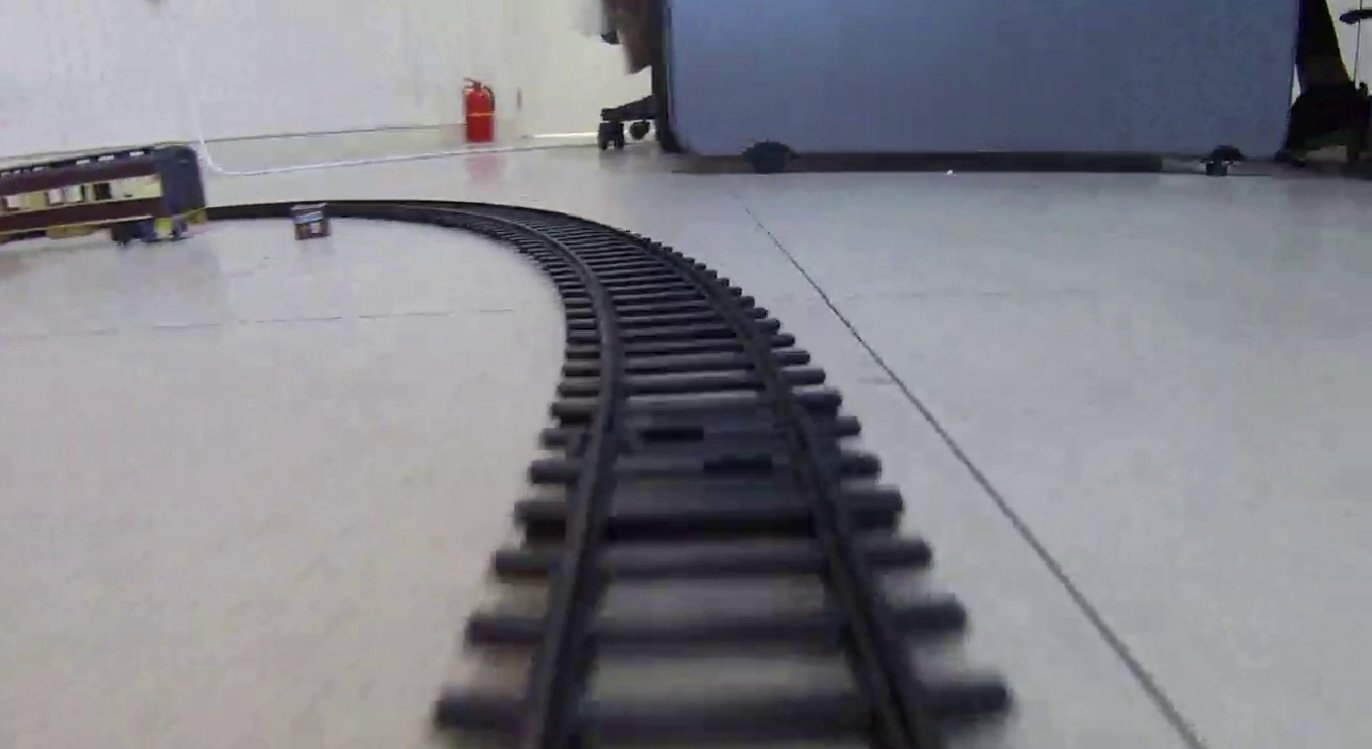box: (291, 204, 333, 240)
